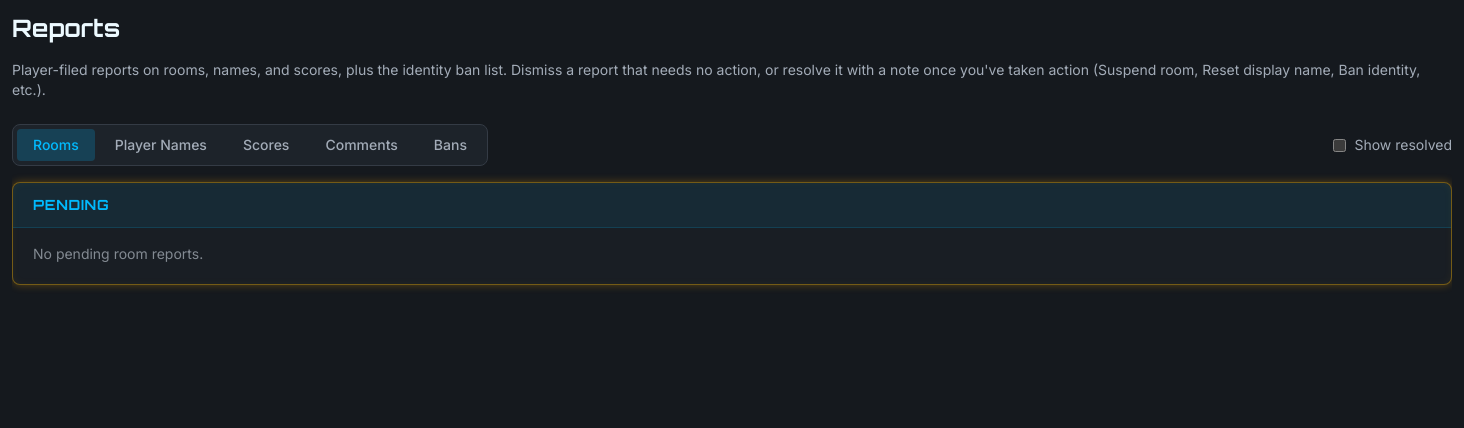
Test: Reports page › m1: player-name headline is the reported target_name SNAPSHOT, not the current resolved identity — the resolved identity renders as secondary "Currently:" conte
Check: the text "No pending room reports." is shown, box left=33, top=245, right=203, bottom=262
Click the button "Player Names" at (161, 145), box left=99, top=129, right=223, bottom=161
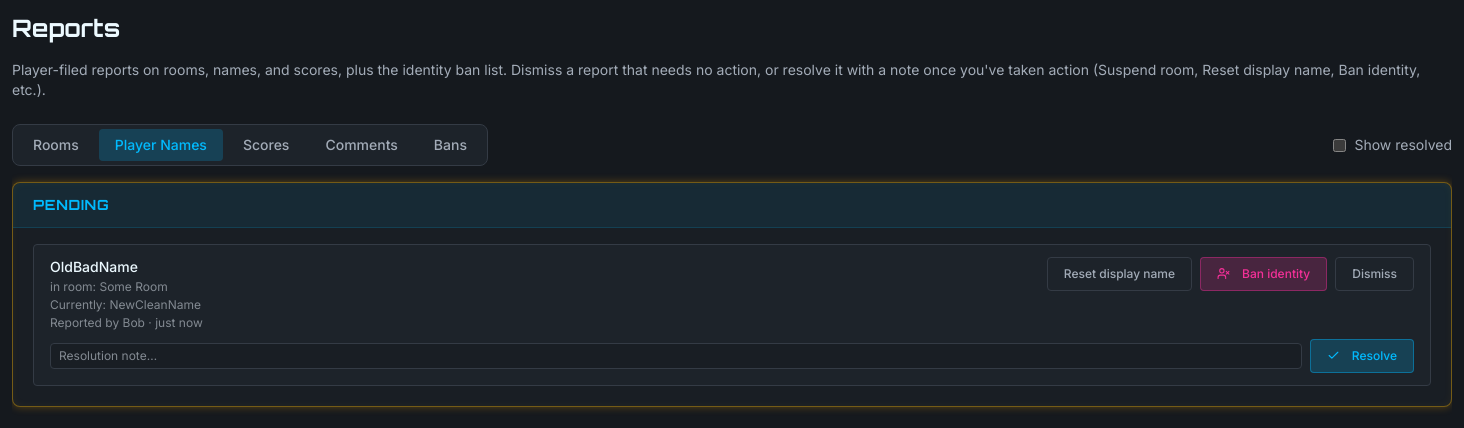
Check: the text "OldBadName" is shown, box left=50, top=258, right=138, bottom=275
Check: the text "Currently: NewCleanName" is shown, box left=50, top=297, right=203, bottom=313
